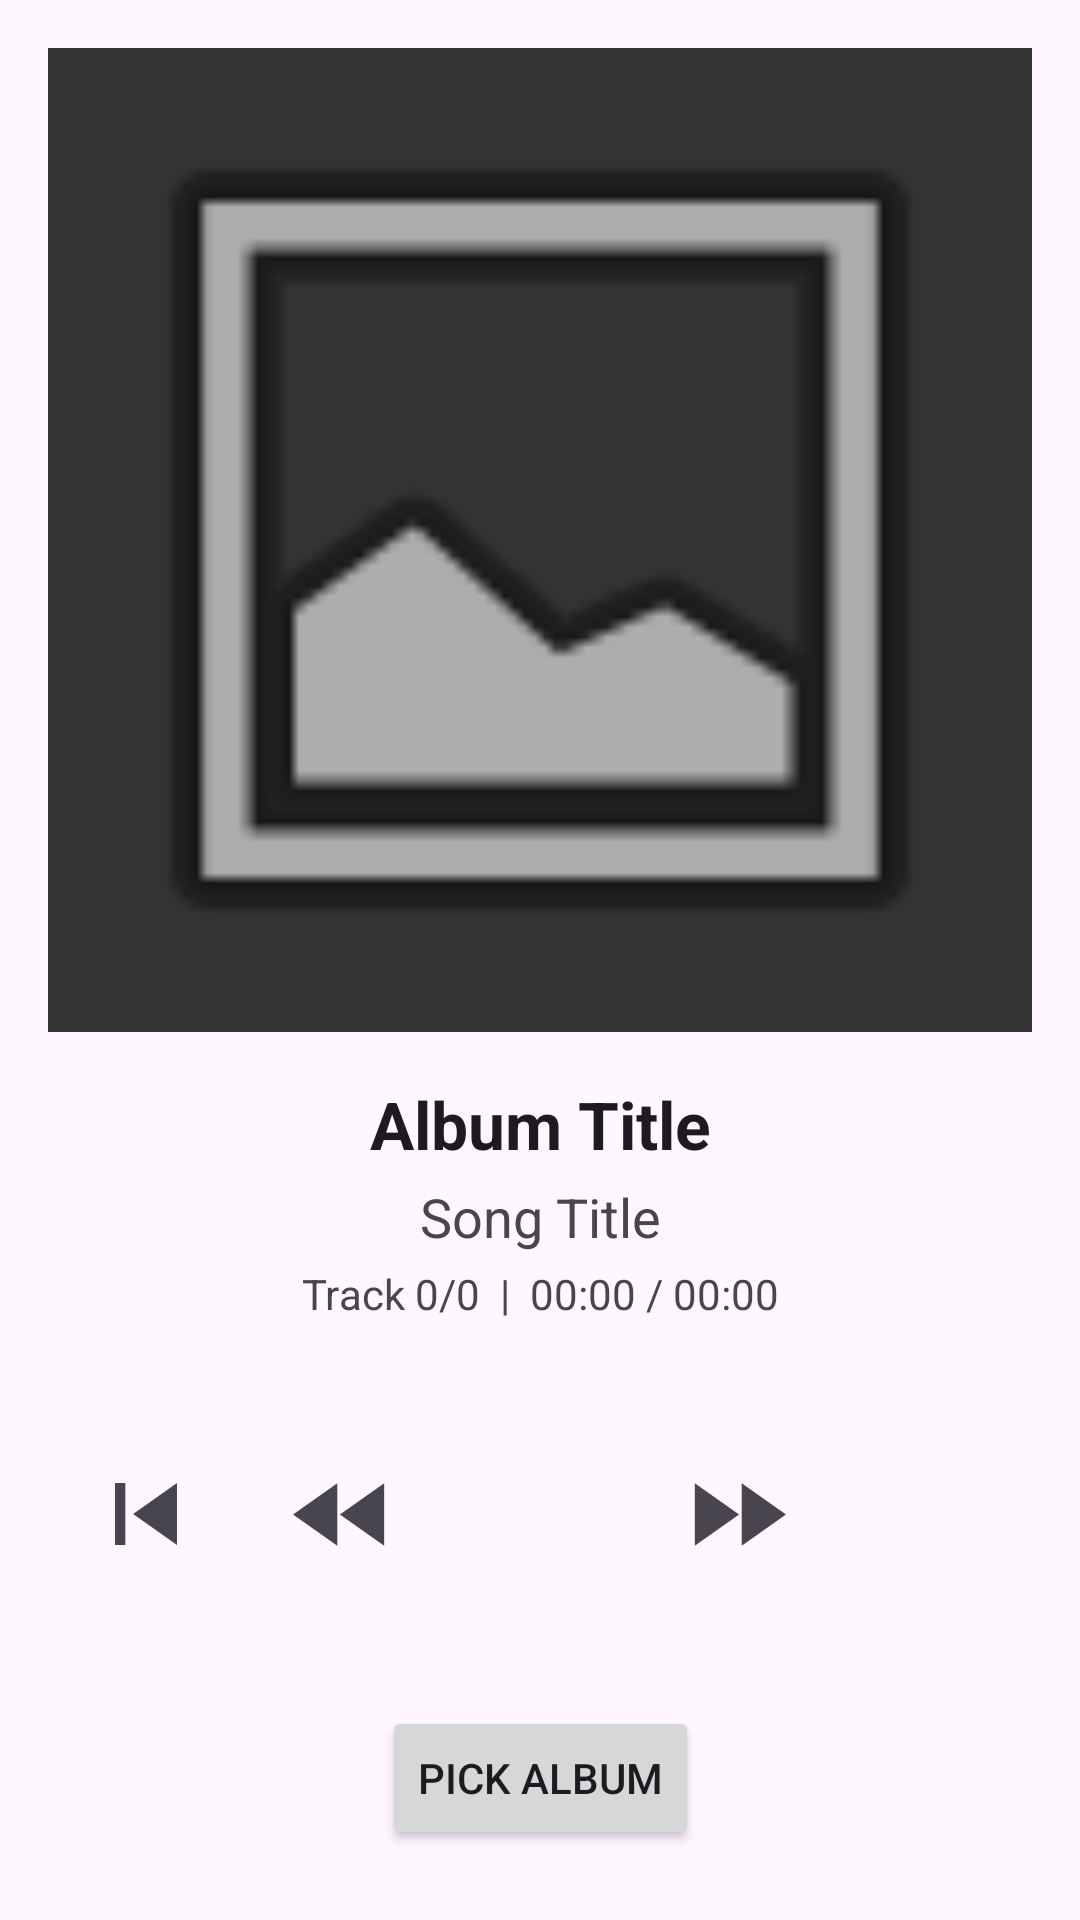

Named icons in this screenshot (1080px×1920px) and their centers, point (x, y):
Next Song: point (740, 1514)
Previous Album: point (146, 1514)
Previous Song: point (339, 1514)
